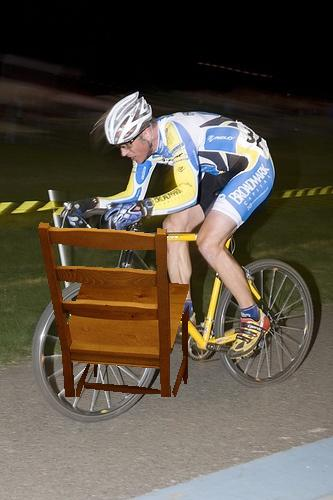tampered: (39, 223, 189, 397)
